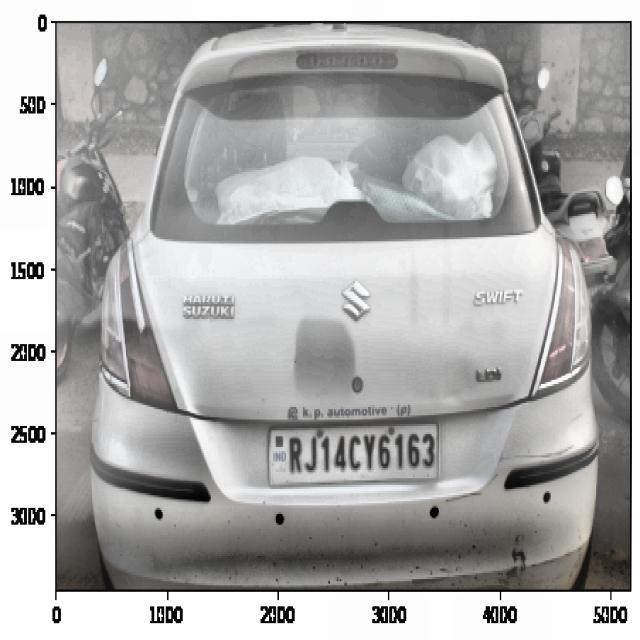license_plate: (283, 427, 438, 483)
